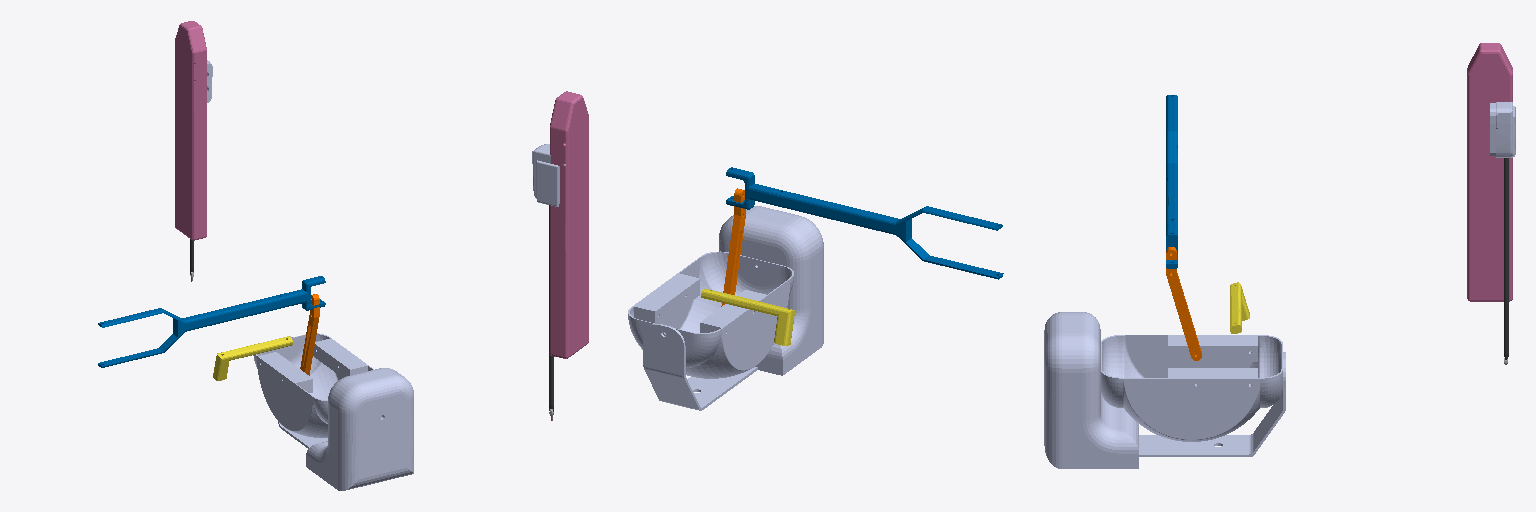
The robot description file, URDF, robot "daVinci":
<?xml version="1.0" encoding="utf-8"?>

<robot name="daVinci">

  <!-- link 0: psm base link -->
  <link name="psm_base_link">
    <visual>
      <origin rpy="1.5708 0 3.1416" xyz="0.039 -0.03888 -0.07879"/>
      <geometry>
        <mesh filename="package://irk_model/meshes/psm_base.dae"/>      
      </geometry>
    </visual>
  </link>
  
  <!-- joint 1 -->
  <joint name="outer_yaw_joint" type="revolute">
    <parent link="psm_base_link"/>
    <child link="outer_yaw_link"/>
    <axis xyz="0 0 1"/>
    <origin rpy="1.5708 -1.5708 0" xyz="0.0 0.0 0.0"/>
    <limit lower="-1.5707" upper="1.5707" velocity=".4" effort="1000"/>
  </joint> 
  
  
  <!-- link 1: outer_yaw -->
  <link name="outer_yaw_link">
    <visual>
      <!-- <origin rpy="0 0 -1.5708" xyz="0.0125 0 0.1575"/> -->
      <origin rpy="3.1416 0 1.5708" xyz="0.0125 0 0.1575"/>
      <geometry>
        <mesh filename="package://irk_model/meshes/outer_yaw.dae"/>      
      </geometry>
    </visual>
  </link>

  <!-- joint 2-1: outer_pitch_1 -->
  <joint name="outer_pitch_joint_1" type="revolute">
    <parent link="outer_yaw_link"/>
    <child link="outer_pitch_back_link"/>
    <axis xyz="0 0 1"/>
    <origin rpy="-1.5708 -1.5708 0" xyz="0 0.0295 0.1495"/>
    <limit lower="-0.7854" upper="0.7854" velocity=".4" effort="1000"/>
  </joint> 
  
  <!-- link 2: outer_pitch_back -->
  <link name="outer_pitch_back_link">
    <visual>
      <origin rpy="0 0 -0.27129" xyz="0 0 0"/>
      <geometry>
        <mesh filename="package://irk_model/meshes/outer_pitch_back.dae"/>      
      </geometry>
    </visual>
  </link>

  <!-- joint 2-2: outer_pitch_2 -->
  <joint name="outer_pitch_joint_2" type="continuous">
    <parent link="outer_yaw_link"/>
    <child link="outer_pitch_front_link"/>
    <axis xyz="0 0 1"/>
    <origin rpy="-1.5708 -1.5708 0" xyz="0 0.0295 0.0595"/>
    <mimic joint="outer_pitch_joint_1" multiplier="1"/>
  </joint>

  <!-- link 2-2: outer_pitch_front -->
  <link name="outer_pitch_front_link">
    <visual>
      <origin rpy="0 0 -0.27129" xyz="0 0 0"/>
      <!-- <origin rpy="0 0 0" xyz="0 0 0"/> -->
      <geometry>
        <mesh filename="package://irk_model/meshes/outer_pitch_front.dae"/>      
      </geometry>
    </visual>
  </link>

  <!-- joint 2-3: outer_pitch_3 -->
  <joint name="outer_pitch_joint_3" type="continuous">
    <parent link="outer_pitch_back_link"/>
    <child link="outer_pitch_bottom_link"/>
    <axis xyz="0 0 1"/>
    <origin rpy="0 0 0" xyz="0.04178 0.15007 -0.0137"/>
    <mimic joint="outer_pitch_joint_1" multiplier="-1"/>
  </joint>

  <!-- link 2-3: outer_pitch_bottom -->
  <link name="outer_pitch_bottom_link">
    <visual>
      <origin rpy="0 -1.5708 0" xyz="0.009 0 0"/>
      <geometry>
        <mesh filename="package://irk_model/meshes/outer_pitch_bottom.dae"/>      
      </geometry>
    </visual>
  </link>

  <!-- joint 2-4: outer_pitch_4 -->
  <joint name="outer_pitch_joint_4" type="continuous">
    <parent link="outer_pitch_back_link"/>
    <child link="outer_pitch_top_link"/>
    <axis xyz="0 0 1"/>
    <origin rpy="0 0 0" xyz="0.04209 0.18695 -0.02412"/>
    <mimic joint="outer_pitch_joint_1" multiplier="-1"/>
  </joint>

  <!-- link 2-4: outer_pitch_top -->
  <link name="outer_pitch_top_link">
    <visual>
      <origin rpy="0 -1.5708 0" xyz="0.009 0 0"/>
      <geometry>
        <mesh filename="package://irk_model/meshes/outer_pitch_top.dae"/>      
      </geometry>
    </visual>
  </link>

  <!-- joint 2-5: outer_pitch_5 -->
  <joint name="outer_pitch_joint_5" type="continuous">
    <parent link="outer_pitch_bottom_link"/>
    <child link="outer_insertion_link"/>
    <axis xyz="0 0 1"/>
    <origin rpy="0 0 0" xyz="-0.520 0 -0.0175"/>
    <mimic joint="outer_pitch_joint_1" multiplier="1"/>
  </joint>

  <!-- link 2-5: outer_insertion -->
  <link name="outer_insertion_link">
    <visual>
      <origin rpy="0 -1.5708 1.5708" xyz="0.02528 0.429 0"/>
      <geometry>
        <mesh filename="package://irk_model/meshes/outer_insertion.dae"/>      
      </geometry>
    </visual>
  </link>

  <!-- joint 3: insertion -->
  <joint name="outer_insertion_joint" type="prismatic">
    <parent link="outer_insertion_link"/>
    <child link="tool_main_link"/>
    <axis xyz="0 0 1"/>
    <origin rpy="1.5708 0 0" xyz="-0.0403 0.23622 0"/>
    <limit lower="0" upper="0.240" velocity=".4" effort="1000"/>
  </joint>

  <!-- link 3: tool_main_link -->
  <link name="tool_main_link">
    <visual>
      <origin rpy="0 0 1.5708" xyz="0 0 0"/>
      <geometry>
        <mesh filename="package://irk_model/meshes/tool_main.dae"/>      
      </geometry>
    </visual>
  </link>
  
  <!-- joint 4-1: Outer Roll -->
  <joint name="outer_roll_joint" type="revolute">
    <parent link="tool_main_link"/>
    <child link="tool_wrist_link"/>
    <axis xyz="0 0 1"/>
    <origin rpy="0 0 0" xyz="0 0 0.36680"/>
    <limit lower="-2.2689" upper="2.2689" velocity=".4" effort="1000"/>
  </joint>

  <!-- link 4-1: tool_main_link -->
  <link name="tool_wrist_link">
    <visual>
      <origin rpy="0 0 1.5708" xyz="0 0 0"/>
      <geometry>
        <mesh filename="package://irk_model/meshes/tool_wrist_link.dae"/>      
      </geometry>
    </visual>
  </link>

  <!-- joint 4-1: Outer Roll shaft -->
  <joint name="outer_roll_shaft_joint" type="fixed">
    <parent link="tool_wrist_link"/>
    <child link="tool_wrist_shaft_link"/>
    <axis xyz="0 0 1"/>
    <origin rpy="0 0 0" xyz="0 0 0.0091"/>
  </joint>

  <!-- link 4-1: tool_wrist_shaft_link -->
  <link name="tool_wrist_shaft_link">
    <visual>
      <origin rpy="1.5708 0 0" xyz="0 0.00401 0"/>
      <geometry>
        <mesh filename="package://irk_model/meshes/tool_wrist_shaft_link.dae"/> 
      </geometry>
    </visual>
  </link>

  <!-- joint 5: Outer wrist pitch joint -->
  <joint name="outer_wrist_pitch_joint" type="revolute">
    <parent link="tool_wrist_shaft_link"/>
    <child link="tool_wrist_sca_link"/>
    <axis xyz="0 0 1"/>
    <origin rpy="-1.5708 -1.5708 0" xyz="0 0 0"/>
    <limit lower="-1.5707" upper="1.5707" velocity=".4" effort="1000"/>
  </joint>

  <!-- link 5: tool_wrist_sca_link -->
  <link name="tool_wrist_sca_link">
    <visual>
      <!-- <origin rpy="0 3.1416 0" xyz="0 0 0"/> -->
      <origin rpy="1.5708 3.1416 0" xyz="0.0051 0.0032 0"/>
      <geometry>
        <mesh filename="package://irk_model/meshes/tool_wrist_sca_link.dae"/> 
      </geometry>
    </visual>
  </link>

  <!-- joint 5-2: Outer wristyaw joint -->
  <joint name="outer_wrist_yaw_joint" type="revolute">
    <parent link="tool_wrist_sca_link"/>
    <child link="tool_wrist_sca_shaft_link"/>
    <axis xyz="0 0 1"/>
    <origin rpy="-1.5708 -1.5708 0" xyz="0.0089 0 0"/>
    <!-- +/- 80 deg -->
    <limit lower="-1.3963" upper="1.3963" velocity=".4" effort="1000"/>
  </joint>

  <!-- link 5-2: tool_wrist_sca_shaft_link -->
  <link name="tool_wrist_sca_shaft_link">
    <visual>
      <origin rpy="0 0 0" xyz="0 0 -0.0025"/>
      <geometry>
        <mesh filename="package://irk_model/meshes/tool_wrist_sca_shaft_link.dae"/> 
      </geometry>
    </visual>
  </link>
  
  <!-- joint 6-1: Outer open angle 1  -->
  <joint name="outer_wrist_open_angle_joint_1" type="revolute">
    <parent link="tool_wrist_sca_shaft_link"/>
    <child link="tool_wrist_sca_ee_link_1"/>
    <axis xyz="0 0 1"/>
    <origin rpy="0 0 0" xyz="0 0 0"/>
    <!-- <origin rpy="-1.5708 -1.5708 0" xyz="0 0 0"/> -->
    <limit lower="0" upper="1.5707" velocity=".4" effort="1000"/>
  </joint>

  <!-- link 6-1: Outer open angle link 1 -->
  <link name="tool_wrist_sca_ee_link_1">
    <visual>
      <origin rpy="0 0 0" xyz="0 0 0"/>
      <geometry>
        <mesh filename="package://irk_model/meshes/tool_wrist_sca_link_2.dae"/>
      </geometry>
    </visual>
  </link>

  <!-- joint 6-2: Outer open angle 2   -->
  <joint name="outer_wrist_open_angle_joint_2" type="revolute">
    <parent link="tool_wrist_sca_shaft_link"/>
    <child link="tool_wrist_sca_ee_link_2"/>
    <axis xyz="0 0 1"/>
    <origin rpy="0 0 0" xyz="0 0 0"/>
    <limit lower="-1.5707" upper="1.5707" velocity=".4" effort="1000"/>
    <mimic joint="outer_wrist_open_angle_joint_1" multiplier="-1"/>
  </joint>

  <!-- link 6-2: Outer open angle link 2 -->
  <link name="tool_wrist_sca_ee_link_2">
    <visual>
      <origin rpy="0 3.1516 0" xyz="0 0 0"/>
      <geometry>
        <mesh filename="package://irk_model/meshes/tool_wrist_sca_link_2.dae"/>
      </geometry>
    </visual>
  </link>


  
</robot>

--- What the picture shows (computed from the rendered views, not written in the file) ---
Views: 3 orthographic renders of the robot side by side, from view 1: azimuth 30°, elevation 25°; view 2: azimuth 150°, elevation 25°; view 3: azimuth 270°, elevation 25°.
Model daVinci with 14 links and 13 joints (7 revolute, 4 continuous, 1 prismatic, 1 fixed), rooted at psm_base_link, posed every joint at zero.
Links seen in each view (by area): view 1: psm_base_link, outer_insertion_link, outer_yaw_link, outer_pitch_bottom_link, outer_pitch_front_link, outer_pitch_back_link; view 2: psm_base_link, outer_yaw_link, outer_insertion_link, outer_pitch_bottom_link, tool_main_link, outer_pitch_front_link, outer_pitch_back_link; view 3: outer_yaw_link, psm_base_link, outer_insertion_link, tool_main_link, outer_pitch_bottom_link, outer_pitch_back_link, outer_pitch_front_link.
Boxes of the visible links, left/top/right/bottom form: psm_base_link: left=278, top=336, right=413, bottom=490; outer_insertion_link: left=175, top=21, right=206, bottom=240; outer_yaw_link: left=253, top=333, right=373, bottom=437; outer_pitch_bottom_link: left=98, top=276, right=325, bottom=367; outer_pitch_front_link: left=213, top=336, right=292, bottom=380; outer_pitch_back_link: left=300, top=294, right=319, bottom=375; psm_base_link: left=643, top=206, right=823, bottom=410; outer_yaw_link: left=628, top=251, right=793, bottom=378; outer_insertion_link: left=550, top=91, right=588, bottom=358; outer_pitch_bottom_link: left=726, top=167, right=1003, bottom=279; tool_main_link: left=532, top=144, right=565, bottom=405; outer_pitch_front_link: left=701, top=289, right=794, bottom=345; outer_pitch_back_link: left=721, top=188, right=745, bottom=306; outer_yaw_link: left=1101, top=335, right=1282, bottom=441; psm_base_link: left=1044, top=312, right=1285, bottom=468; outer_insertion_link: left=1467, top=43, right=1512, bottom=301; tool_main_link: left=1490, top=102, right=1515, bottom=353; outer_pitch_bottom_link: left=1166, top=95, right=1177, bottom=268; outer_pitch_back_link: left=1166, top=247, right=1201, bottom=360; outer_pitch_front_link: left=1230, top=282, right=1249, bottom=333.
Bounding box of the posed robot: 0.6224 × 0.7888 × 0.7334 m (x, y, z).
Meshes: 13 distinct files referenced, 13 mesh visuals loaded (12 Collada DAE); not drawn: 1 (reference not matched to a file when rendering).
